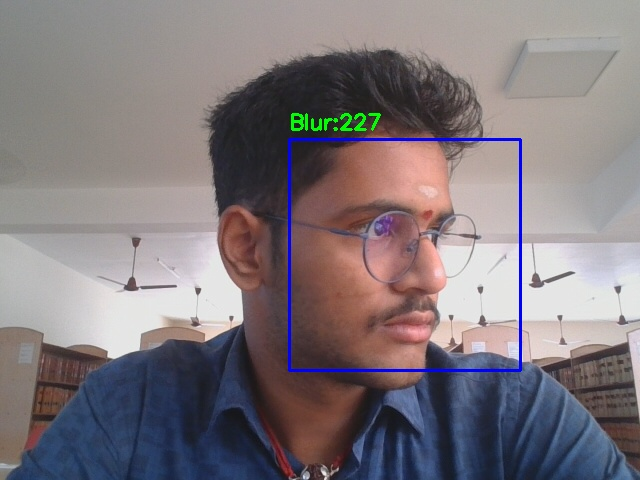real: (289, 139, 520, 370)
